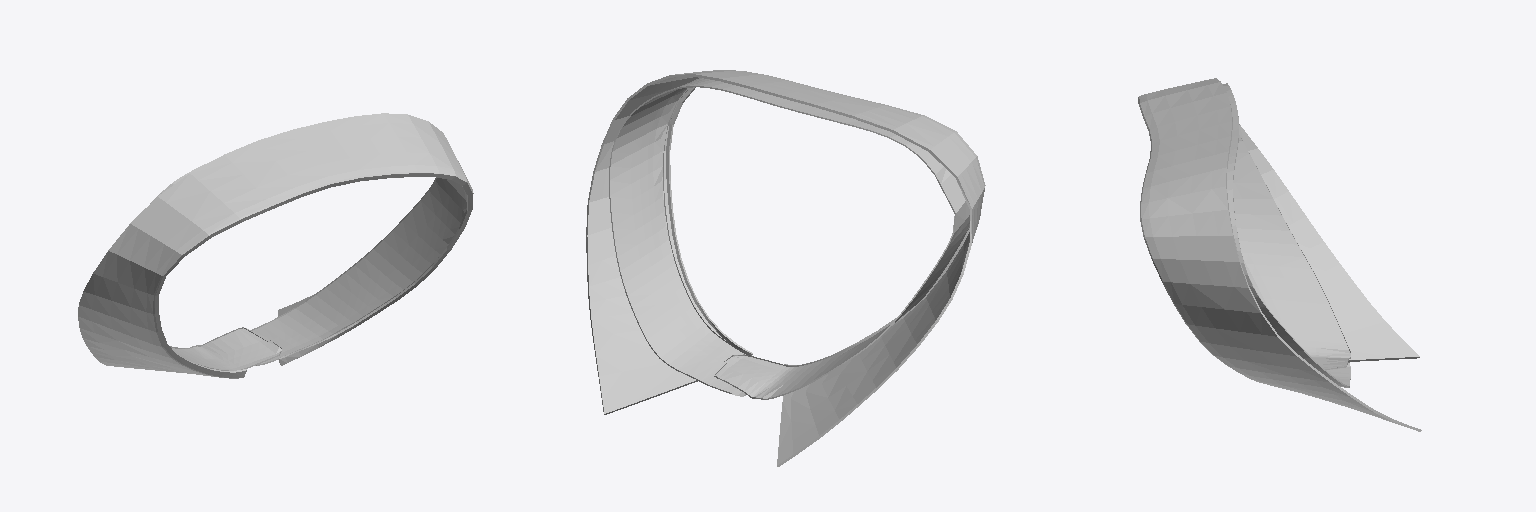
The model's file is 2_pieces_collar_bagian_1_(out).obj.
3 views of the same model, side by side, from view 1: azimuth 30°, elevation 25°; view 2: azimuth 150°, elevation 25°; view 3: azimuth 270°, elevation 25° (orthographic).
Parts seen in each view (by area): view 1: 21__2_pieces_collar_3, inner_collar_out; view 2: 21__2_pieces_collar_3, inner_collar_out; view 3: 21__2_pieces_collar_3, inner_collar_out.
Part boxes in pixels (x1,y1,x2,y2): 21__2_pieces_collar_3: (78,113,473,378); inner_collar_out: (150,161,466,370); 21__2_pieces_collar_3: (586,70,985,466); inner_collar_out: (609,78,969,399); 21__2_pieces_collar_3: (1138,78,1421,431); inner_collar_out: (1223,83,1350,387).
Size of the model in its own units: 17.84 by 13.08 by 11.91.